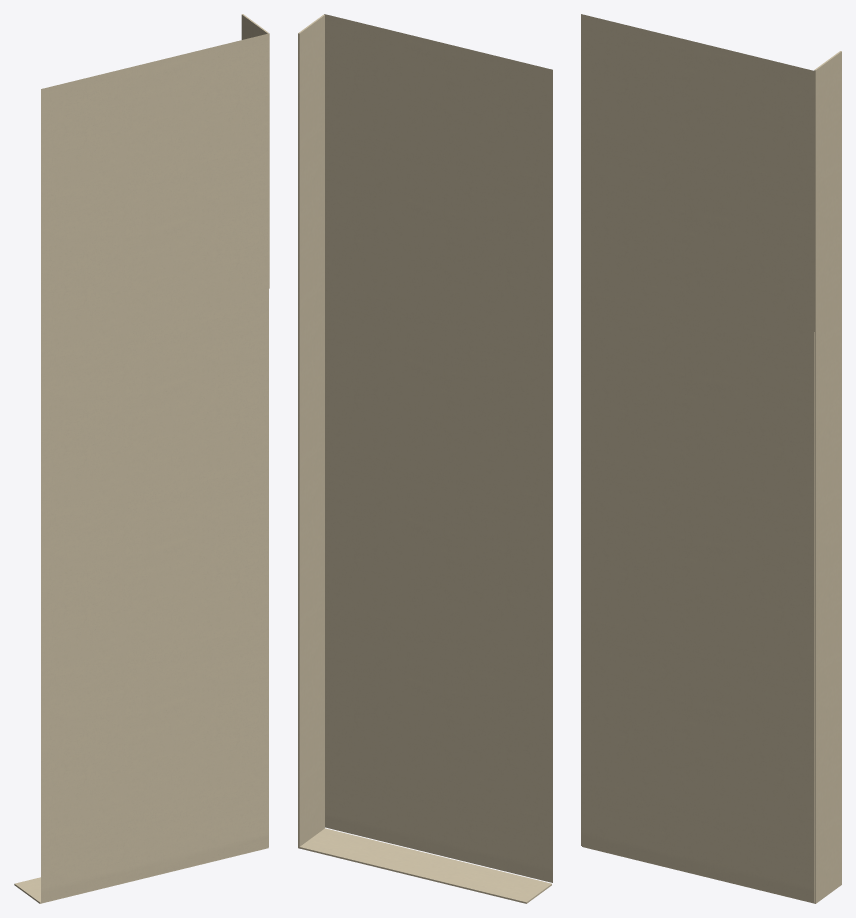
The model's file is fountain-receivers-link-east-upper.glb.
3 renders of one model, left to right at view 1: azimuth 30°, elevation 25°; view 2: azimuth 150°, elevation 25°; view 3: azimuth 330°, elevation 25°, orthographic. The views are drawn at different scales.
Parts seen in each view (by area): view 1: bz06_pale_lime.001-cast; view 2: bz06_pale_lime.001-cast; view 3: bz06_pale_lime.001-cast.
Part boxes in pixels (x1,y1,x2,y2): bz06_pale_lime.001-cast: (14,14,269,903); bz06_pale_lime.001-cast: (298,14,552,903); bz06_pale_lime.001-cast: (581,14,841,903).
Bounding box in the file's own units: 3 × 10.22 × 0.6.
1 material, 1 textured.
